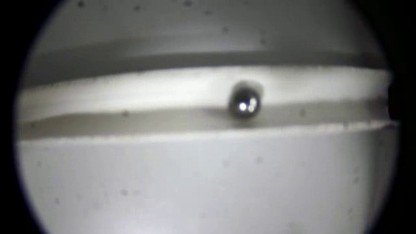gangzhu: (229, 86, 262, 119)
